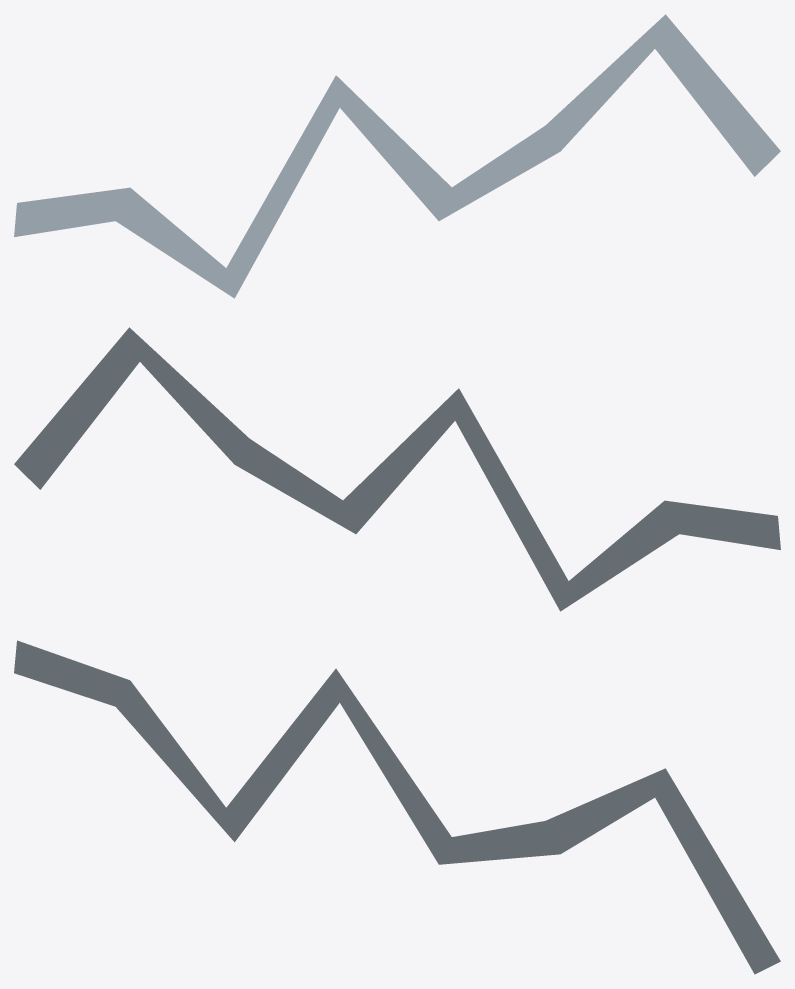
File: 2045_PotionThrow_Overall_GroundArc13.fbx
The picture shows the model from 3 angles, top to bottom: view 1: azimuth 30°, elevation 25°; view 2: azimuth 150°, elevation 25°; view 3: azimuth 330°, elevation 25°; orthographic projection.
Visible parts, largest first — view 1: PART_GroundArc13; view 2: PART_GroundArc13; view 3: PART_GroundArc13.
Boxes of the visible parts, bbox=[...] form: PART_GroundArc13: bbox=[14, 14, 780, 298]; PART_GroundArc13: bbox=[14, 327, 780, 611]; PART_GroundArc13: bbox=[14, 640, 780, 974].
Bounding box in the file's own units: 71.36 × 18.15 × 2.96e-06.
